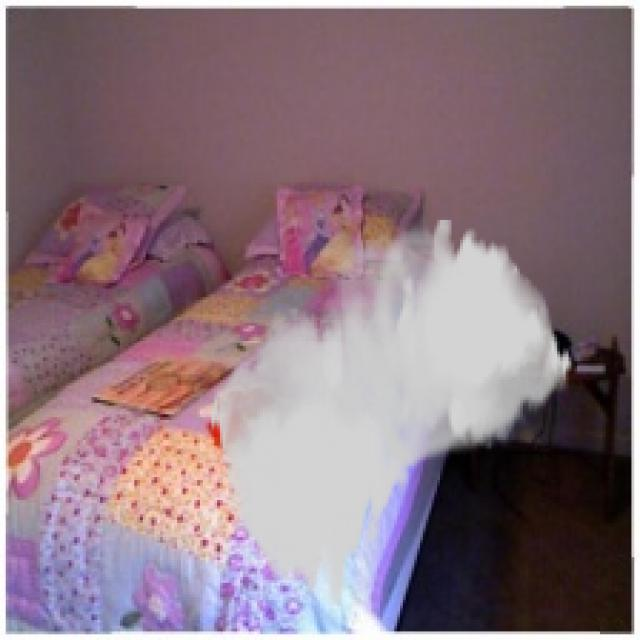smoke: (209, 217, 574, 606)
